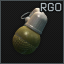RGO hand grenade: (0, 0, 64, 64)
